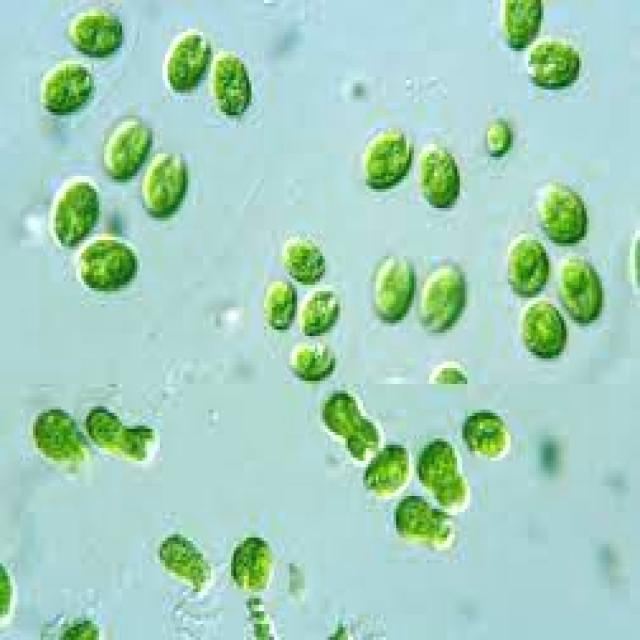Green Algae: (30, 404, 91, 471), (160, 531, 216, 602), (417, 259, 468, 336), (534, 179, 594, 243), (76, 234, 142, 291), (102, 112, 155, 182), (155, 26, 211, 92), (368, 246, 414, 324), (556, 250, 605, 323), (48, 176, 99, 246), (145, 147, 193, 221), (208, 45, 252, 125), (361, 122, 414, 188), (33, 61, 94, 118), (416, 138, 459, 211), (528, 32, 582, 90), (226, 534, 274, 596), (521, 294, 566, 358), (284, 336, 346, 381), (506, 233, 551, 294), (68, 6, 124, 54), (363, 445, 412, 499), (465, 403, 510, 461), (300, 282, 345, 339), (279, 236, 328, 282), (500, 3, 546, 51), (81, 406, 127, 454), (417, 438, 462, 480), (264, 278, 297, 333), (396, 496, 432, 544), (322, 387, 356, 432), (434, 474, 472, 512), (127, 426, 163, 464), (485, 115, 513, 163), (348, 422, 378, 458)
